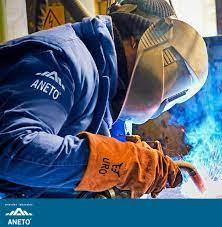gloves: (73, 130, 183, 198)
